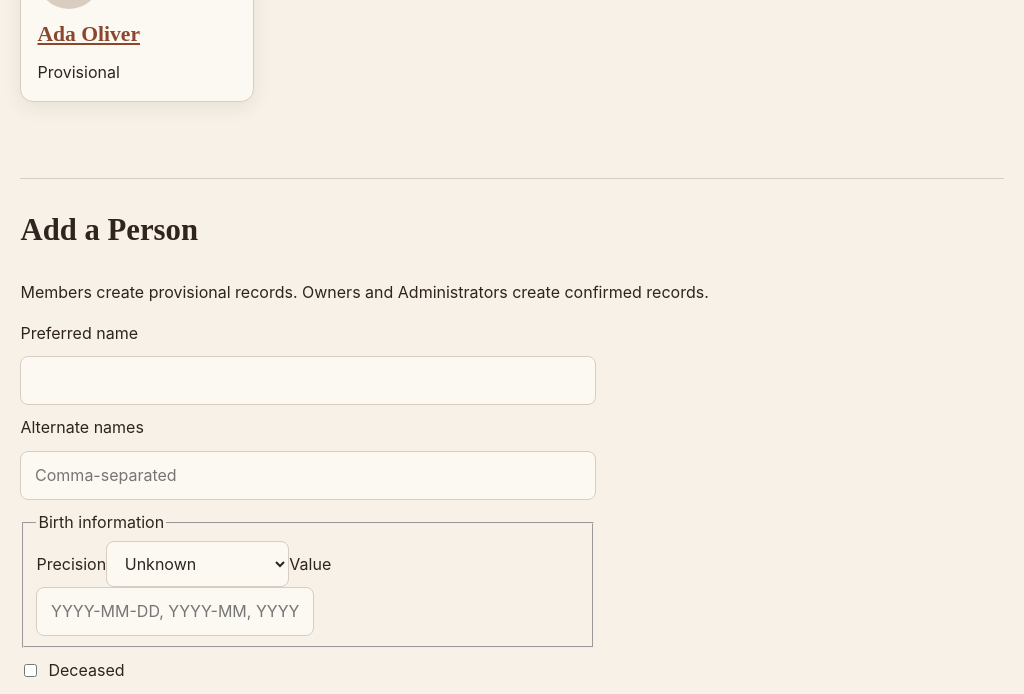
PeoplePage › creates through the feature mutation and refreshes the list
(page scrolled)
Expected: the link "Ada Oliver" is shown, [38,22,140,46]
Type "Grace Oliver" into the field labelled "Preferred name" at (308, 380), box [20,356,596,405]
(page scrolled)
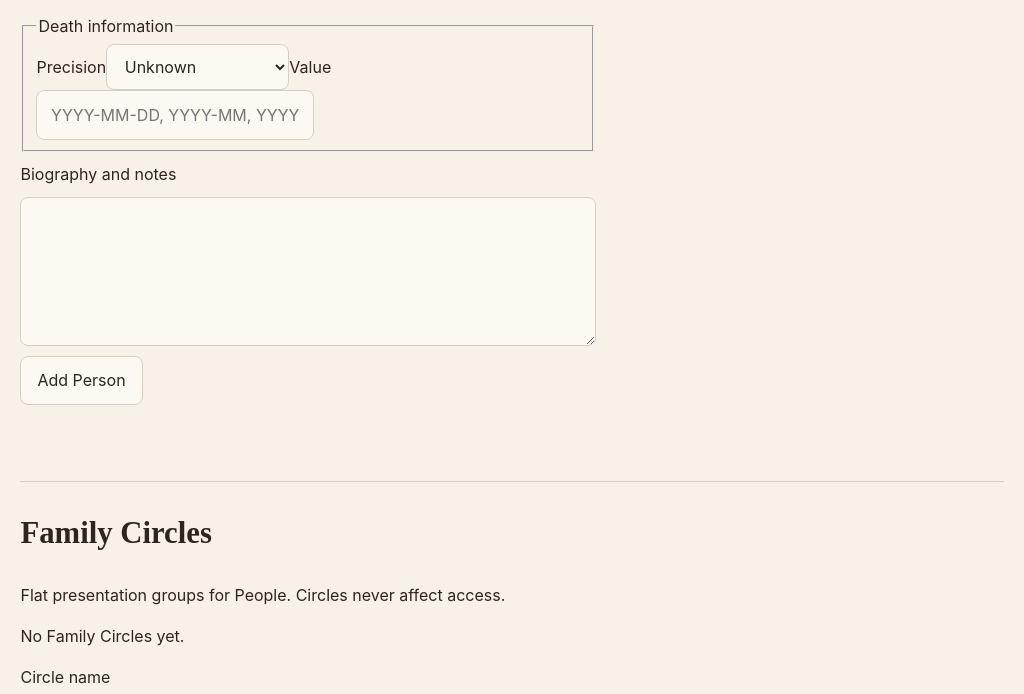
Click the button "Add Person" at (82, 380), box [20,356,143,405]
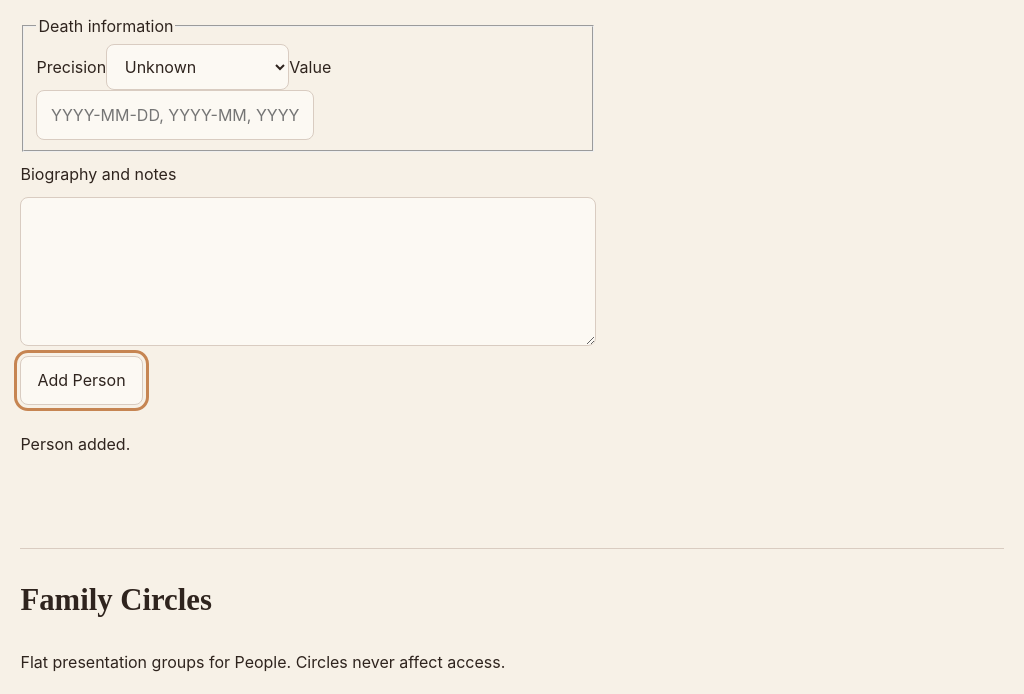
Now the message reads "Person added.", box [20,434,130,454]
